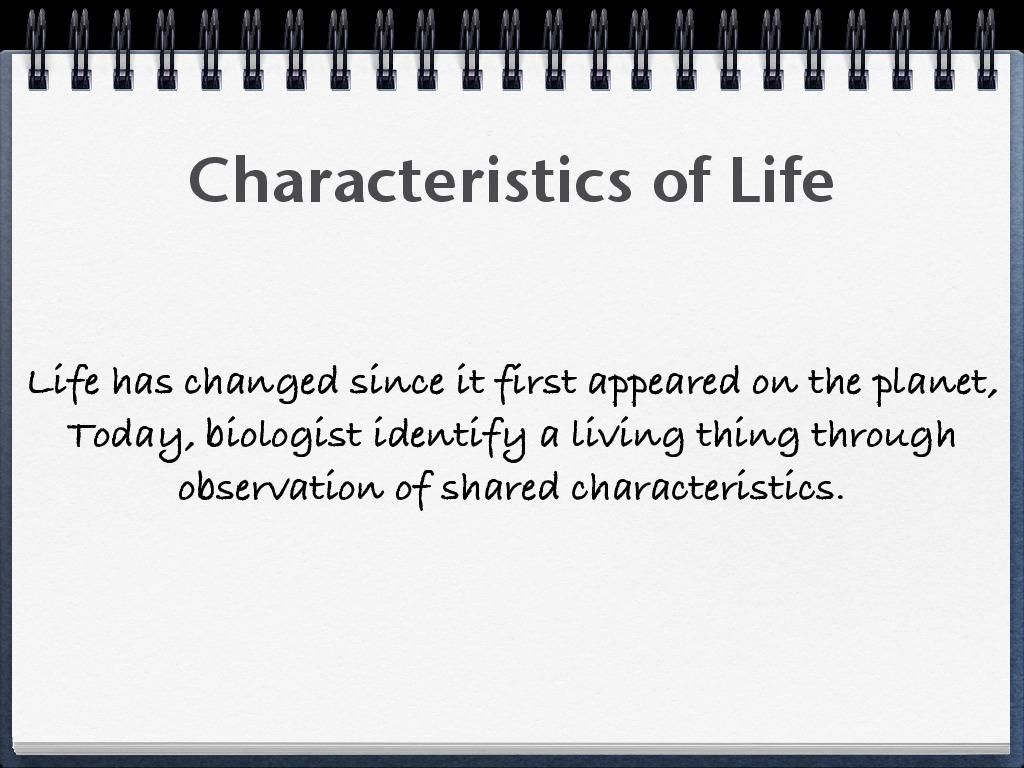paragraph: (15, 339, 1000, 513)
title: (190, 141, 844, 229)
